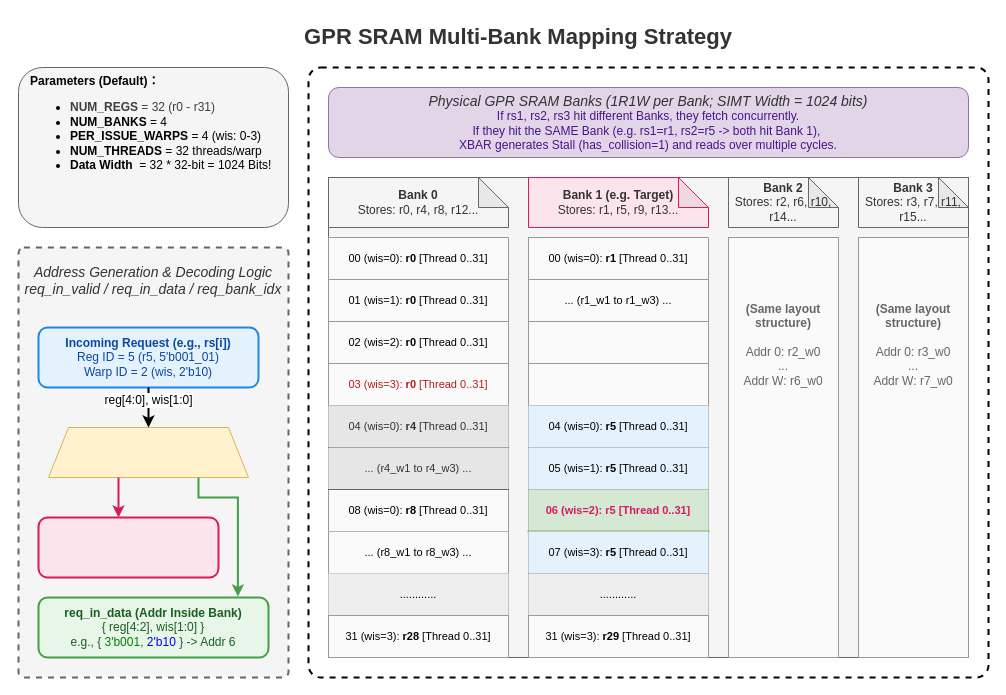
Image size: 1006x695. Some labels were removed from this diagram. Each missing label, with the centre of its shape:
"Bitwise Splitting & Concat" belongs at [148,452].
"req_bank_idx (Bank Select) reg[1:0] (Lowest 2 bits) e.g., 5'b001_ 01 -> Bank 1" belongs at [128,547].
